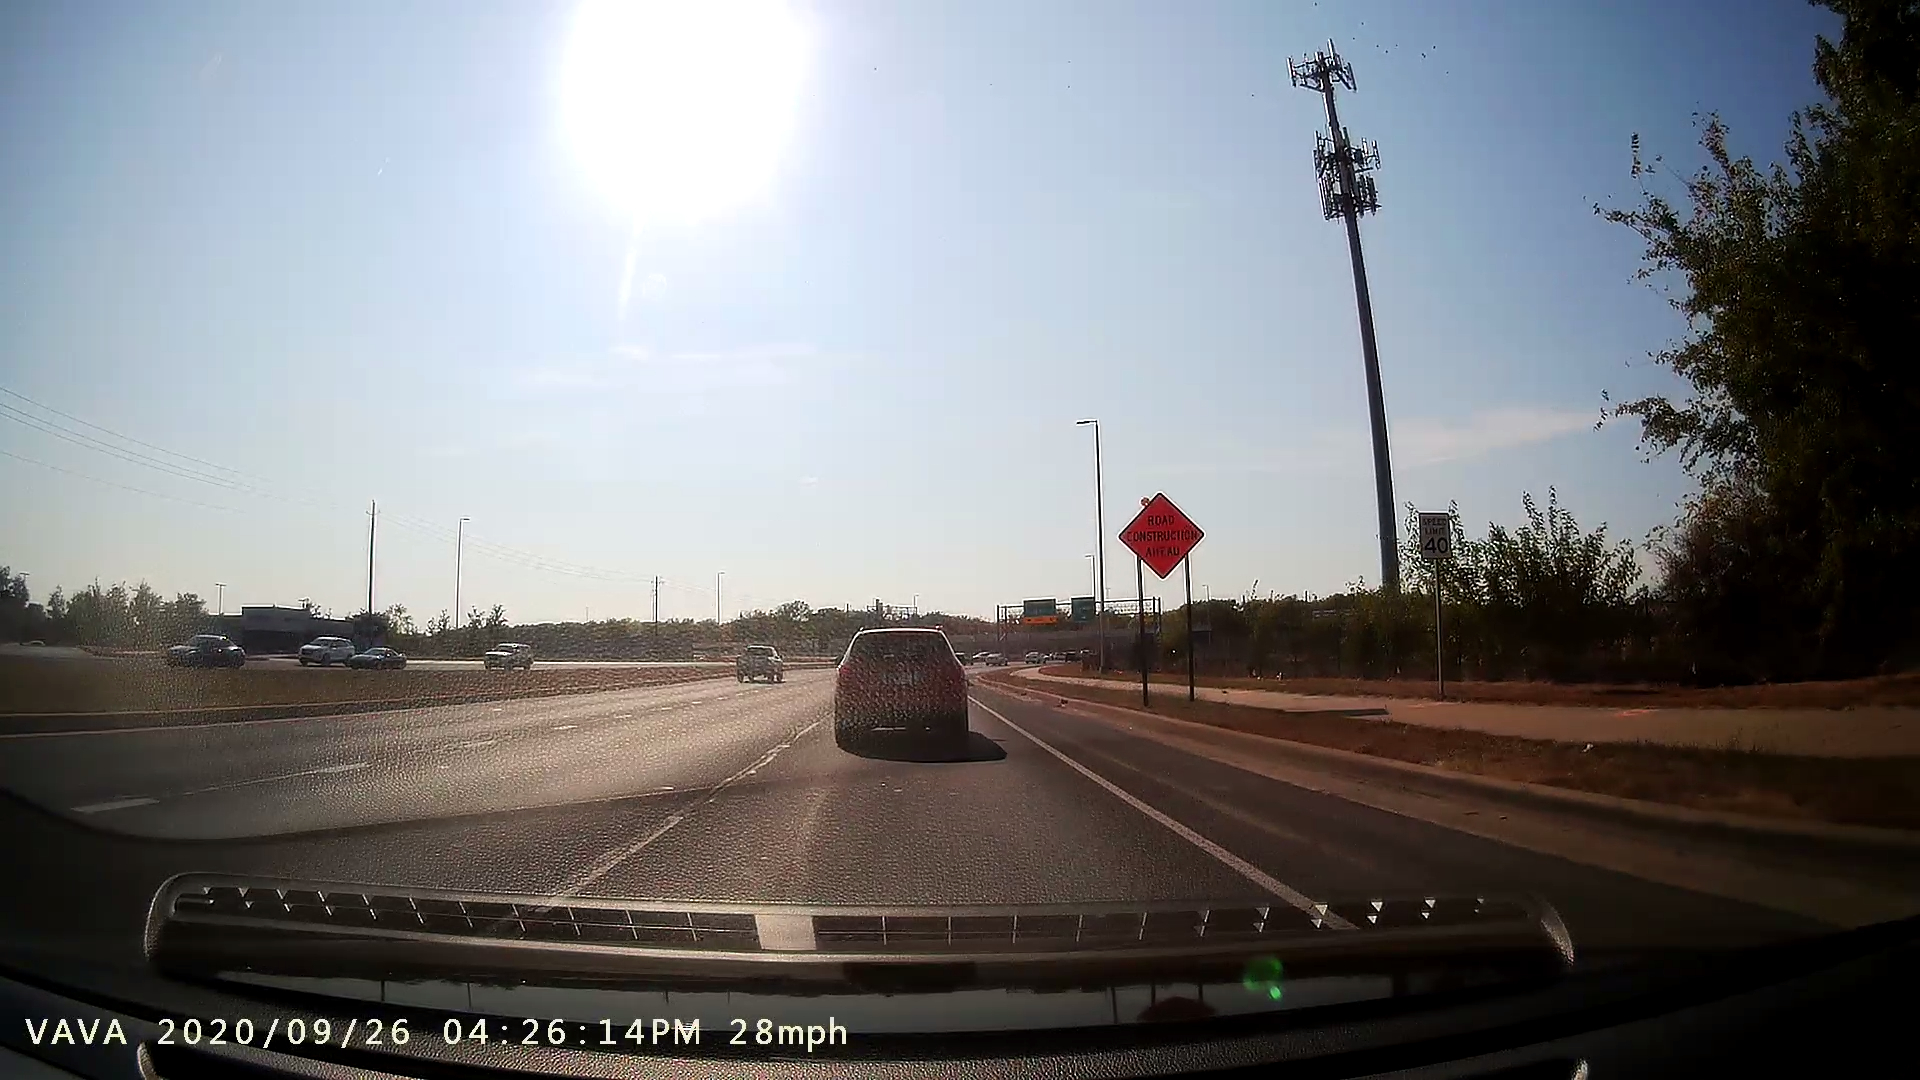ttcs_end_const: (1106, 487, 1212, 715)
